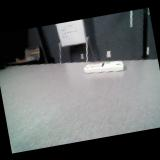domino: (83, 60, 123, 72)
